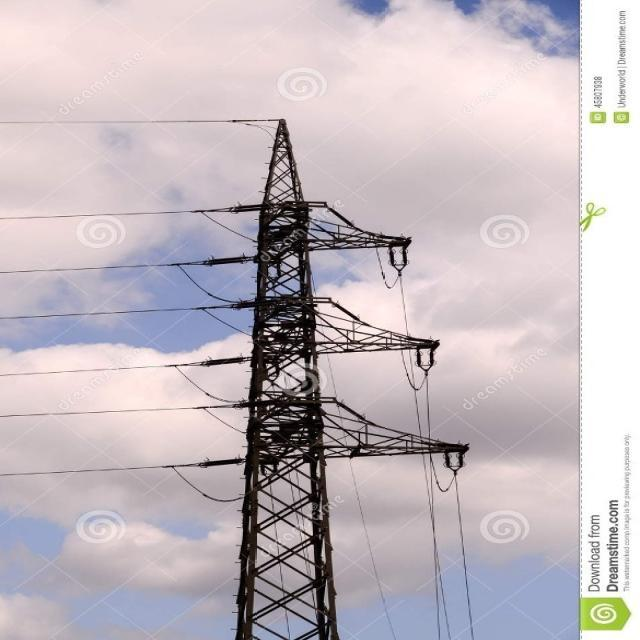non-critical vegetation: (148, 104, 462, 561)
